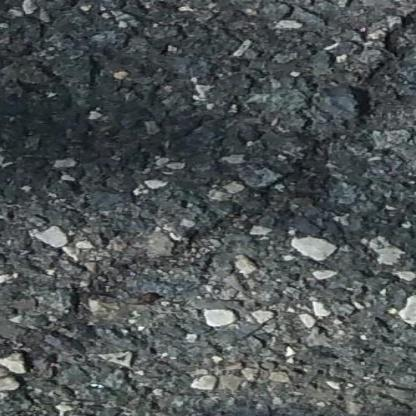Cracks: (166, 2, 416, 268)
